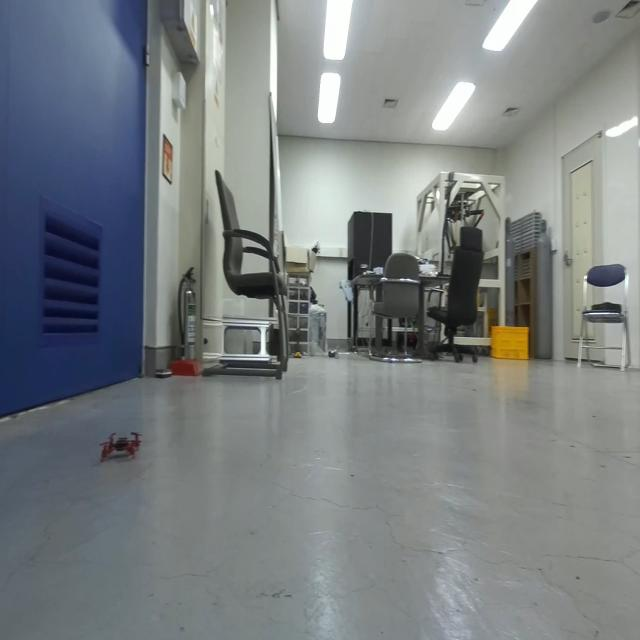crazyflie: (100, 425, 146, 464)
